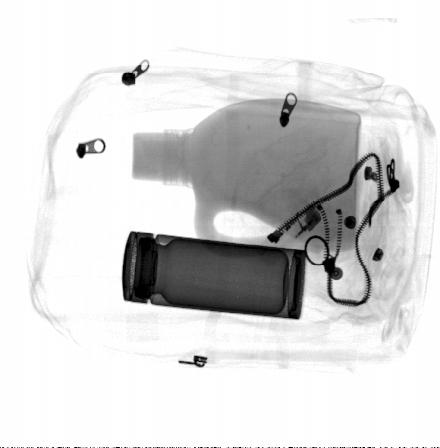Lighter: (255, 201, 322, 264)
